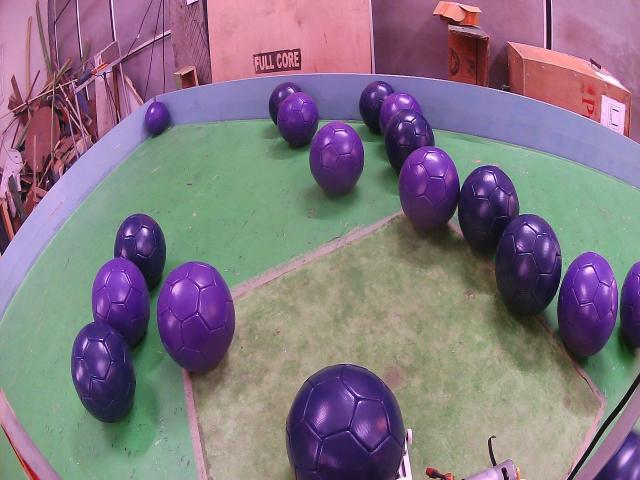jambhalya: (158, 262, 235, 373), (558, 252, 619, 357), (91, 257, 150, 347), (399, 147, 460, 230), (310, 122, 364, 193), (278, 92, 319, 147), (379, 92, 422, 135), (620, 262, 640, 348), (145, 102, 169, 135)
kaalyya: (285, 363, 405, 480), (495, 213, 561, 315), (71, 322, 136, 423), (458, 165, 519, 253), (114, 213, 166, 290), (384, 108, 435, 173), (359, 80, 394, 132), (269, 82, 301, 125)
